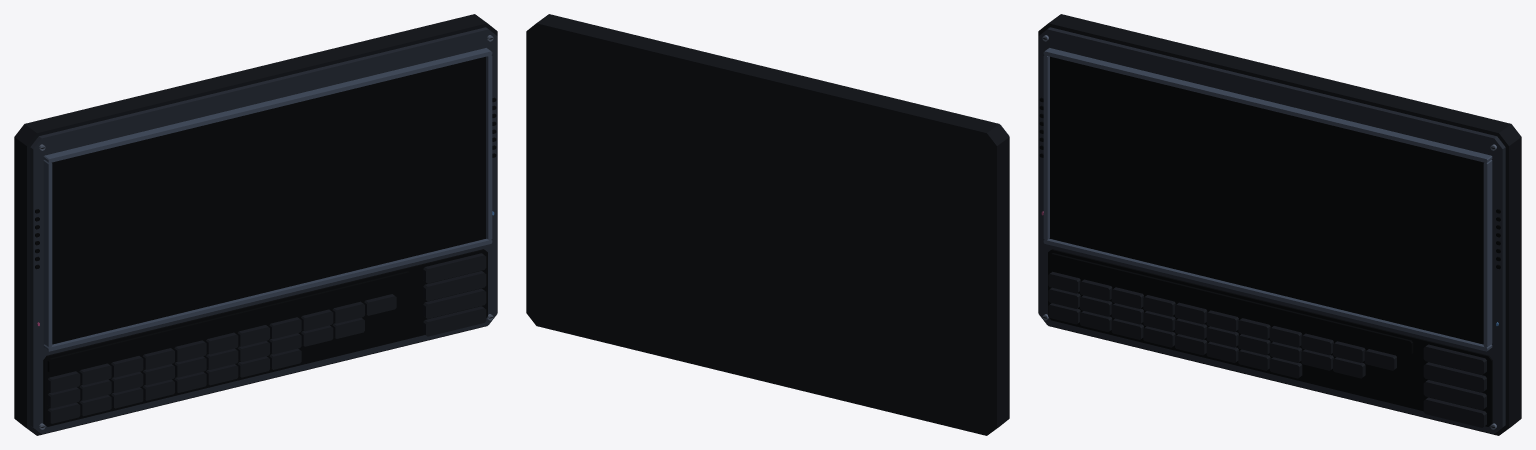
The model's file is cyberdeck.obj.
The picture shows the model from 3 angles, left to right: view 1: azimuth 30°, elevation 25°; view 2: azimuth 150°, elevation 25°; view 3: azimuth 330°, elevation 25°; orthographic projection.
Parts seen in each view (by area): view 1: display_bed, front_chassis, rear_shell, keyboard_well, search_recess, screen_rail_top, screen_rail_bottom, screen_rail_left, screen_rail_right, action_key_2, action_key_1, action_key_0 (+30 smaller); view 2: rear_shell; view 3: display_bed, front_chassis, rear_shell, keyboard_well, search_recess, screen_rail_top, screen_rail_bottom, screen_rail_right, screen_rail_left, action_key_1, action_key_0, action_key_2 (+30 smaller).
Boxes of the visible parts, x1,y1,x2,y2 form: display_bed: (52,56,486,344); front_chassis: (30,27,497,433); rear_shell: (14,14,497,435); keyboard_well: (43,249,487,426); search_recess: (47,271,410,373); screen_rail_top: (43,48,492,162); screen_rail_bottom: (43,238,492,351); screen_rail_left: (43,160,52,347); screen_rail_right: (486,55,492,240); action_key_2: (423,288,486,318); action_key_1: (423,271,486,301); action_key_0: (423,253,486,283); rear_shell: (526,14,1009,435); display_bed: (1049,56,1483,344); front_chassis: (1038,27,1505,433); rear_shell: (1038,14,1521,435); keyboard_well: (1048,249,1492,426); search_recess: (1049,253,1413,355); screen_rail_top: (1043,48,1492,162); screen_rail_bottom: (1043,238,1492,351); screen_rail_right: (1483,160,1492,347); screen_rail_left: (1043,55,1049,240); action_key_1: (1423,362,1486,392); action_key_0: (1423,344,1486,374); action_key_2: (1423,380,1486,410).
Bounding box in the file's own units: 1116 × 686 × 85.
